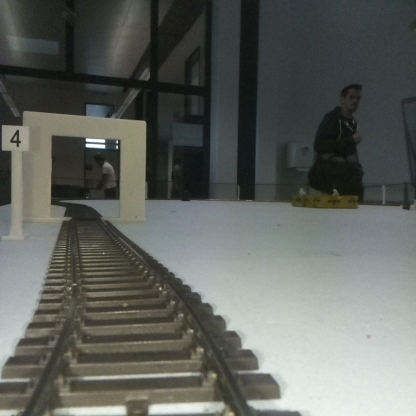white-info-4: (2, 124, 28, 238)
